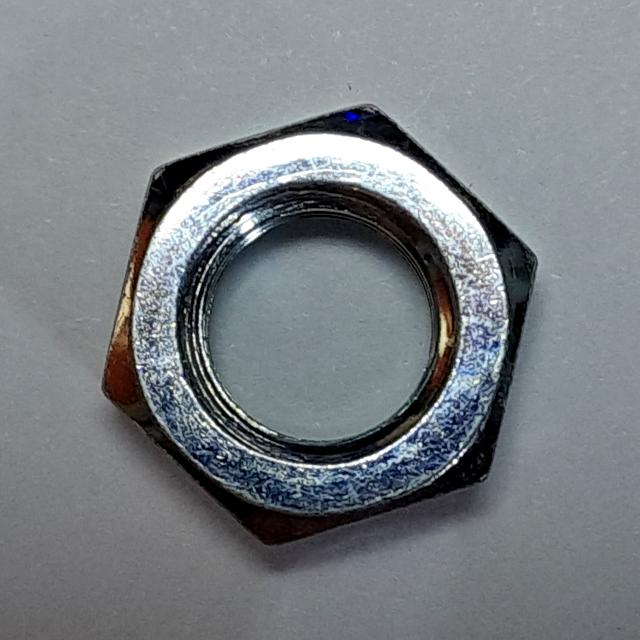Excellent: (85, 89, 559, 564)
